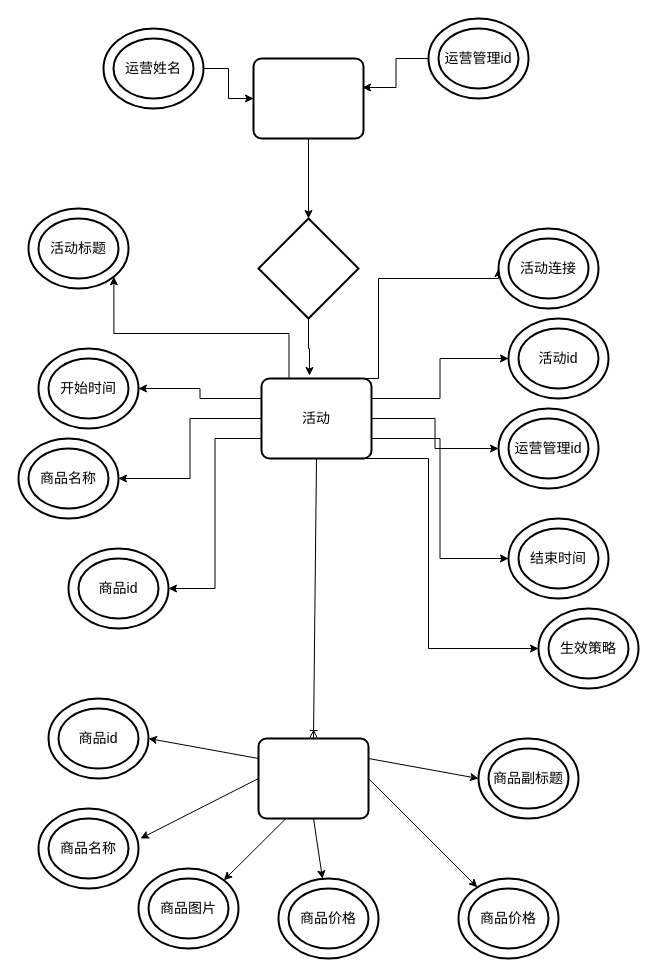
The diagram is 656 pixels wide and 976 high, and some of its shapes have lost their labels. Here are the shapes that lost their labels. From the top down, the centre of each, then its label:
At pixel 308 98: "运营".
At pixel 308 268: "发布".
At pixel 313 778: "商品".
